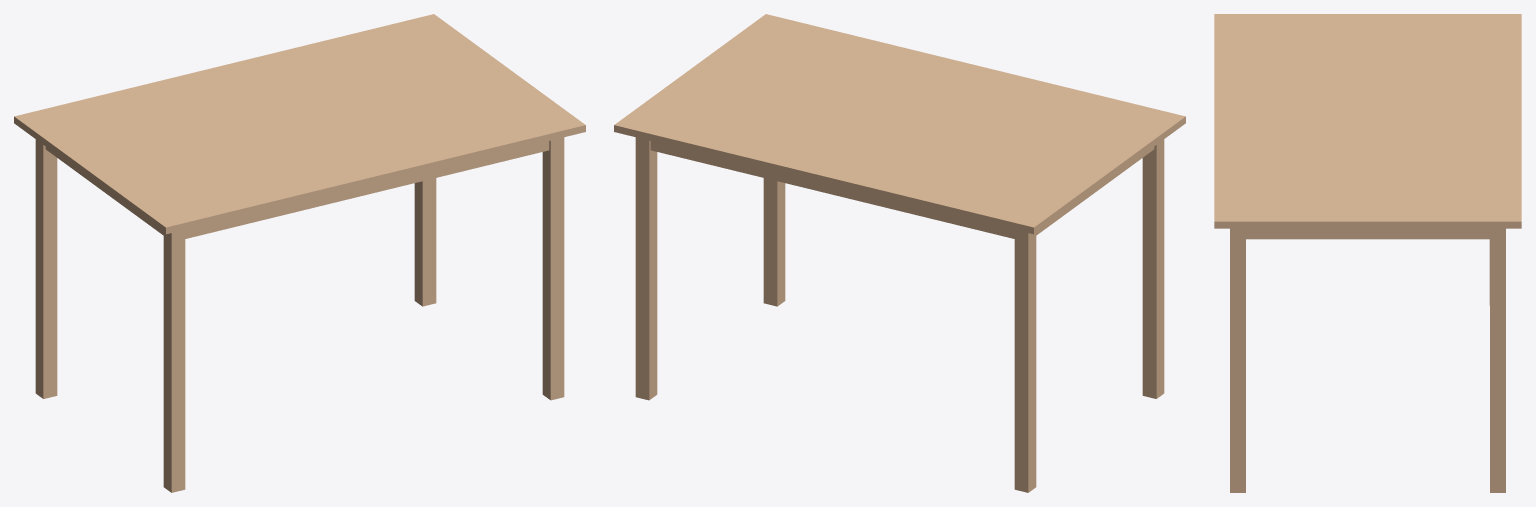
3 renders of one model, left to right at view 1: azimuth 30°, elevation 25°; view 2: azimuth 150°, elevation 25°; view 3: azimuth 270°, elevation 25°, orthographic.
Visible parts, largest first — view 1: Mesh1 Ikea_Jokkmokk_Table1 Model; view 2: Mesh1 Ikea_Jokkmokk_Table1 Model; view 3: Mesh1 Ikea_Jokkmokk_Table1 Model.
Boxes of the visible parts, <box> form: Mesh1 Ikea_Jokkmokk_Table1 Model: <box>14,14,585,492</box>; Mesh1 Ikea_Jokkmokk_Table1 Model: <box>614,14,1185,492</box>; Mesh1 Ikea_Jokkmokk_Table1 Model: <box>1214,14,1521,492</box>.
Bounding box in the file's own units: 0.7491 × 0.4678 × 0.469.
